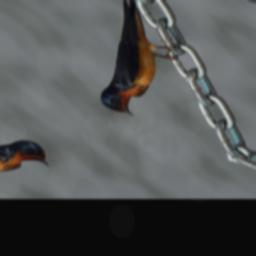Swallow: (36, 0, 222, 123)
